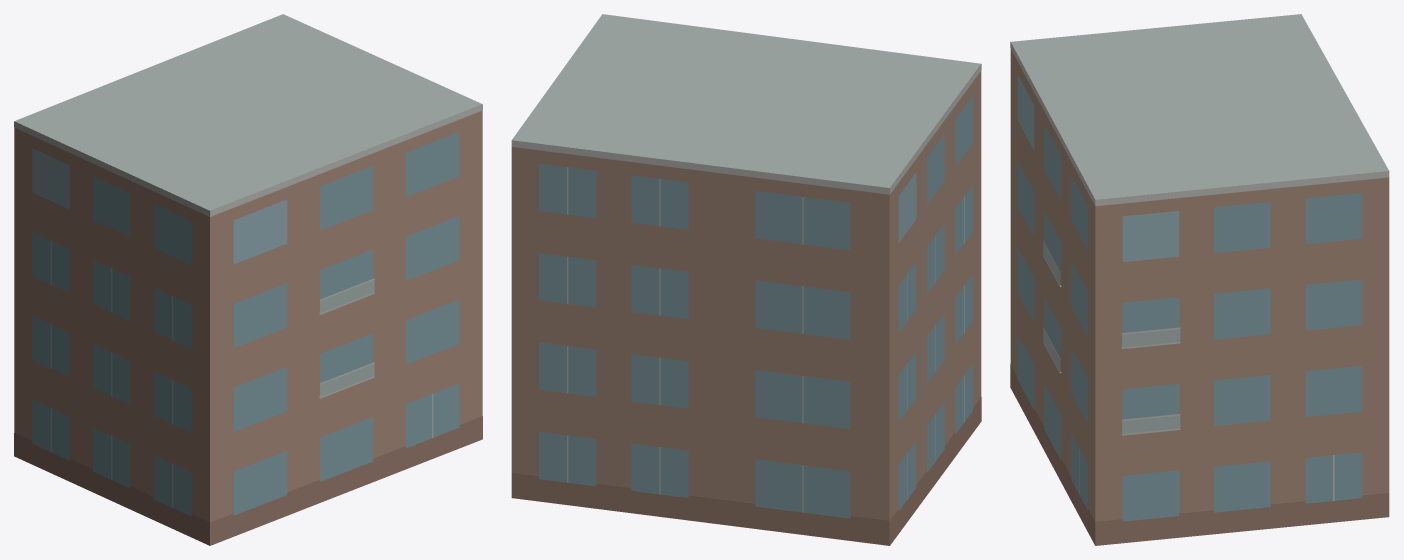
File: survey-upis-32918636.glb
3 renders of one model, left to right at view 1: azimuth 30°, elevation 25°; view 2: azimuth 150°, elevation 25°; view 3: azimuth 270°, elevation 25°, orthographic. The views are drawn at different scales.
Visible parts, largest first — view 1: survey-upis-32918636.tmp; view 2: survey-upis-32918636.tmp; view 3: survey-upis-32918636.tmp.
Boxes of the visible parts, x1=… form: survey-upis-32918636.tmp: x1=14, y1=14, x2=482, y2=545; survey-upis-32918636.tmp: x1=511, y1=14, x2=981, y2=545; survey-upis-32918636.tmp: x1=1010, y1=14, x2=1389, y2=545.
Size of the model in its own units: 15.22 by 13.2 by 13.11.
